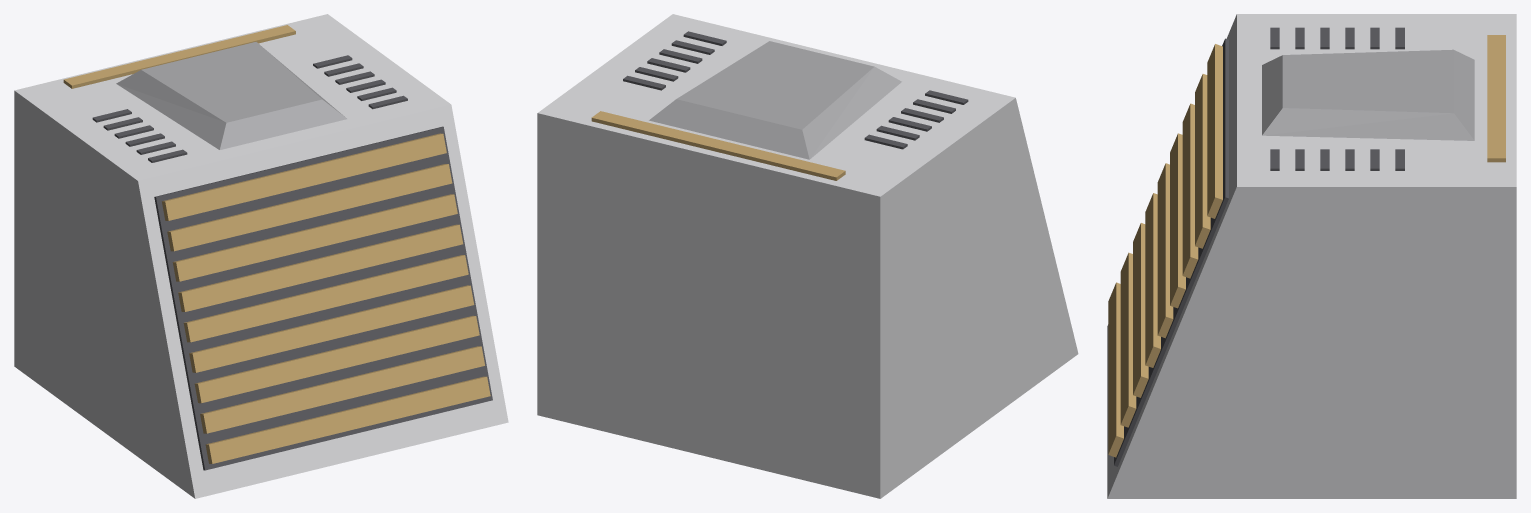
Rendered from vge_lateral_thruster.obj.
The picture shows the model from 3 angles, left to right: view 1: azimuth 30°, elevation 25°; view 2: azimuth 150°, elevation 25°; view 3: azimuth 270°, elevation 25°; orthographic projection. The views are drawn at different scales.
Visible parts, largest first — view 1: vge_lateral_thruster_0, vge_lateral_thruster_1, vge_lateral_thruster_11, vge_lateral_thruster_7, vge_lateral_thruster_4, vge_lateral_thruster_2, vge_lateral_thruster_5, vge_lateral_thruster_9, vge_lateral_thruster_10, vge_lateral_thruster_3, vge_lateral_thruster_6, vge_lateral_thruster_8 (+1 smaller); view 2: vge_lateral_thruster_0, vge_lateral_thruster_11, vge_lateral_thruster_24; view 3: vge_lateral_thruster_0, vge_lateral_thruster_11, vge_lateral_thruster_1, vge_lateral_thruster_10, vge_lateral_thruster_24, vge_lateral_thruster_3, vge_lateral_thruster_6, vge_lateral_thruster_8, vge_lateral_thruster_7, vge_lateral_thruster_2, vge_lateral_thruster_5, vge_lateral_thruster_4 (+1 smaller).
Part boxes in pixels (<box>): vge_lateral_thruster_0: <box>14,14,508,498</box>; vge_lateral_thruster_1: <box>154,126,492,470</box>; vge_lateral_thruster_11: <box>116,42,346,149</box>; vge_lateral_thruster_7: <box>178,224,463,311</box>; vge_lateral_thruster_4: <box>194,315,479,403</box>; vge_lateral_thruster_2: <box>205,376,490,463</box>; vge_lateral_thruster_5: <box>189,285,474,372</box>; vge_lateral_thruster_9: <box>167,164,452,251</box>; vge_lateral_thruster_10: <box>162,133,446,220</box>; vge_lateral_thruster_3: <box>200,346,484,433</box>; vge_lateral_thruster_6: <box>183,255,468,342</box>; vge_lateral_thruster_8: <box>172,194,457,281</box>; vge_lateral_thruster_0: <box>537,14,1078,498</box>; vge_lateral_thruster_11: <box>649,41,901,159</box>; vge_lateral_thruster_24: <box>591,111,845,180</box>; vge_lateral_thruster_0: <box>1107,14,1516,498</box>; vge_lateral_thruster_11: <box>1262,49,1474,140</box>; vge_lateral_thruster_1: <box>1114,38,1228,466</box>; vge_lateral_thruster_10: <box>1207,44,1222,218</box>; vge_lateral_thruster_24: <box>1487,35,1505,162</box>; vge_lateral_thruster_3: <box>1120,252,1136,427</box>; vge_lateral_thruster_6: <box>1157,163,1173,338</box>; vge_lateral_thruster_8: <box>1182,103,1198,278</box>; vge_lateral_thruster_7: <box>1170,133,1185,308</box>; vge_lateral_thruster_2: <box>1108,282,1123,457</box>; vge_lateral_thruster_5: <box>1145,193,1160,367</box>; vge_lateral_thruster_4: <box>1133,223,1148,397</box>.
Bounding box in the file's own units: 1.96 × 1.75 × 1.96.
